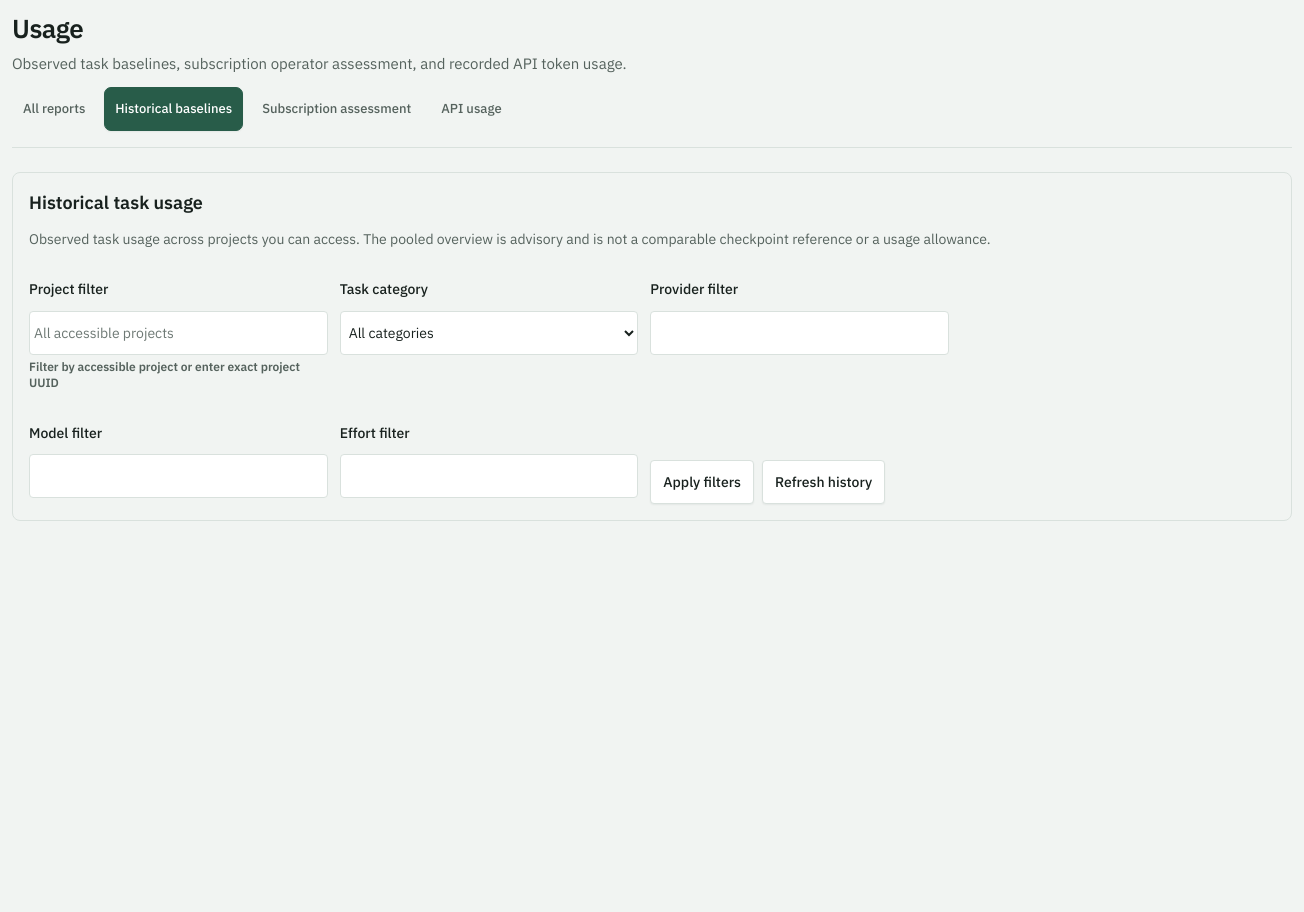
the all-reports view loads both subscription and API projections
The width and height of the screenshot is (1304, 912).
Step 1. Click the button "All reports" → [54, 109], box x1=12 y1=87 x2=96 y2=131
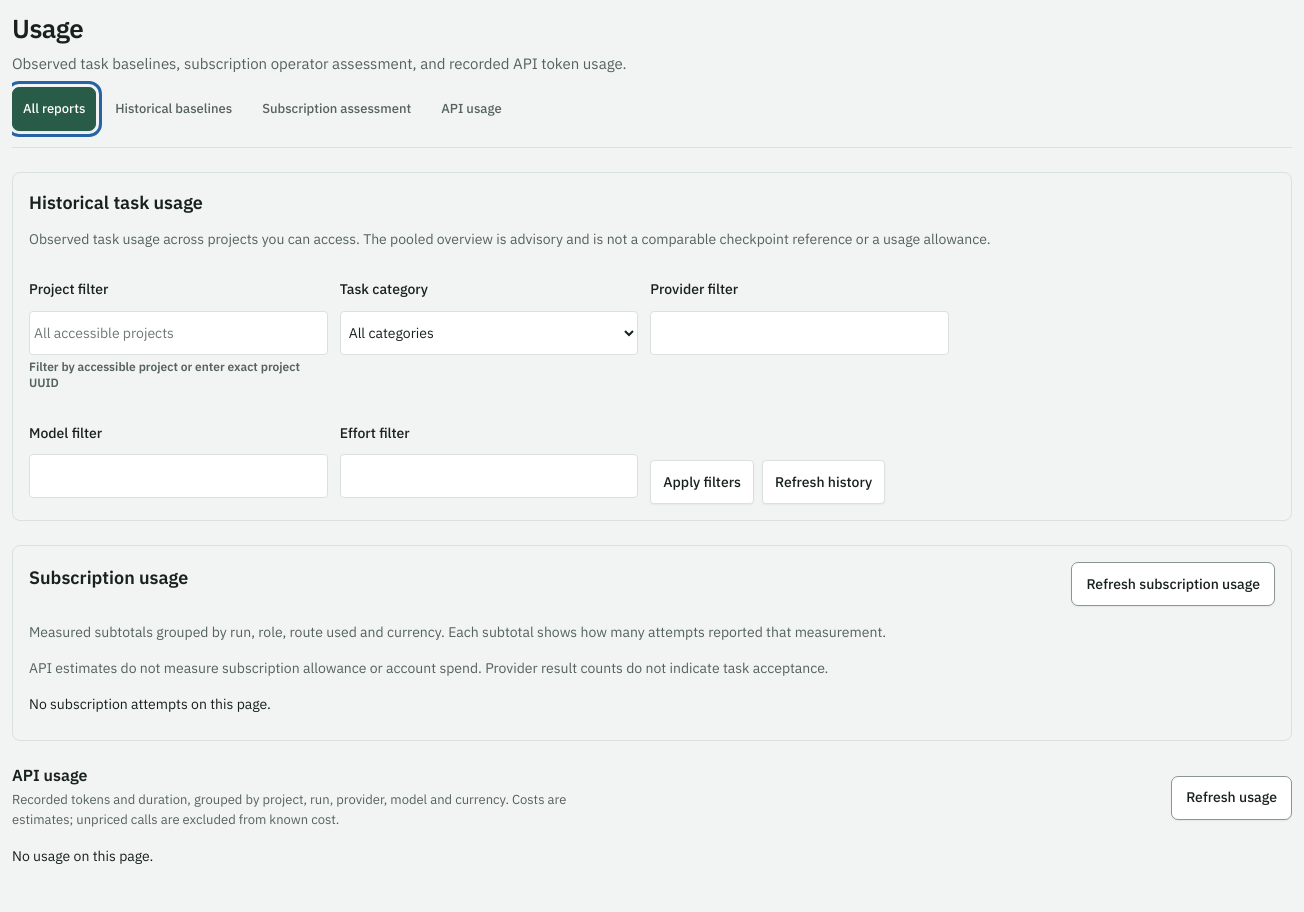
Expected: the text "No subscription attempts on this page." is shown, x1=29 y1=695 x2=271 y2=713
Expected: the text "No usage on this page." is shown, x1=12 y1=847 x2=153 y2=865
